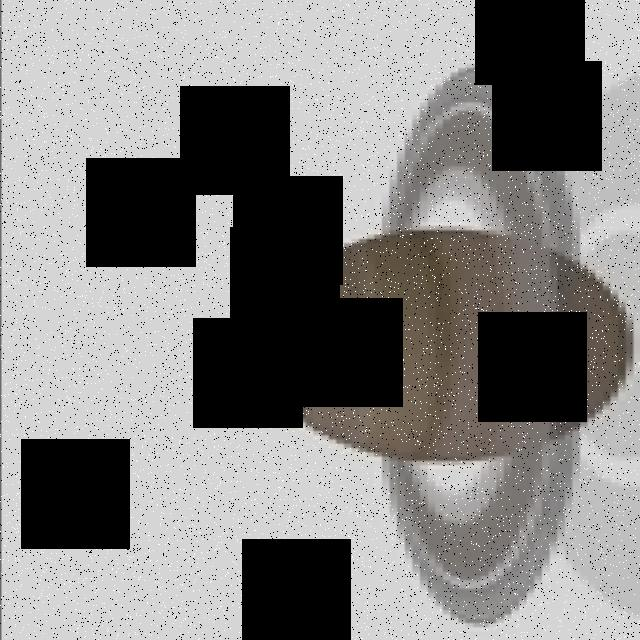Saturn: (244, 64, 640, 632)
